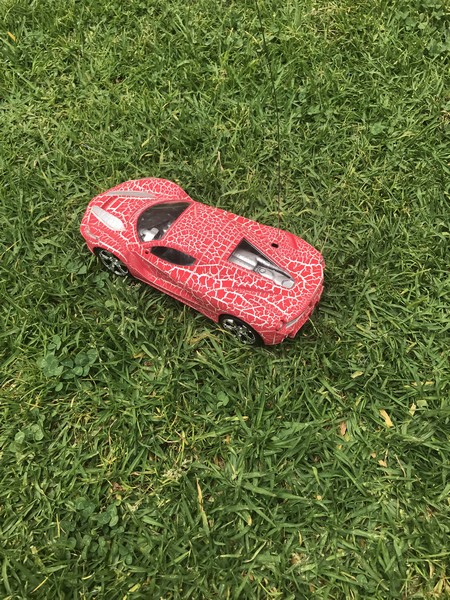RC: (78, 174, 328, 347)
